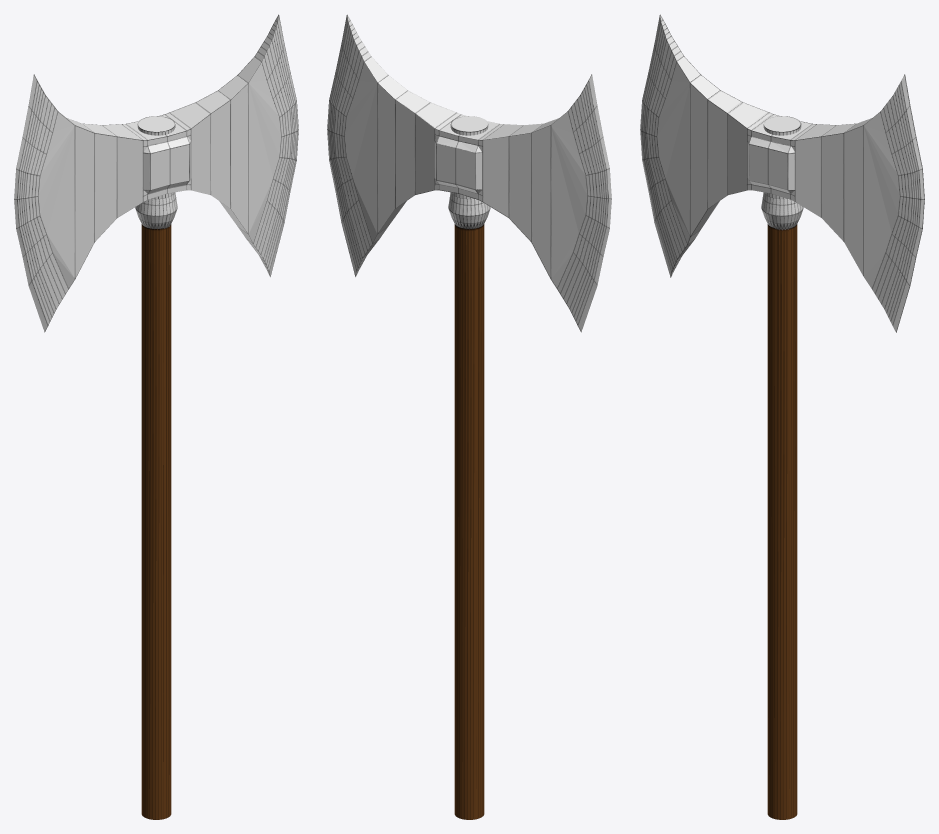
Rendered from axe.dae.
3 renders of one model, left to right at view 1: azimuth 30°, elevation 25°; view 2: azimuth 150°, elevation 25°; view 3: azimuth 330°, elevation 25°, orthographic.
Visible parts, largest first — view 1: Axe; view 2: Axe; view 3: Axe.
Part boxes in pixels (x1,y1,x2,y2): Axe: (14, 14, 298, 819); Axe: (327, 14, 611, 819); Axe: (640, 14, 924, 819).
Bounding box in the file's own units: 0.3703 × 0.0628 × 0.9566.
1 material, 1 textured.
